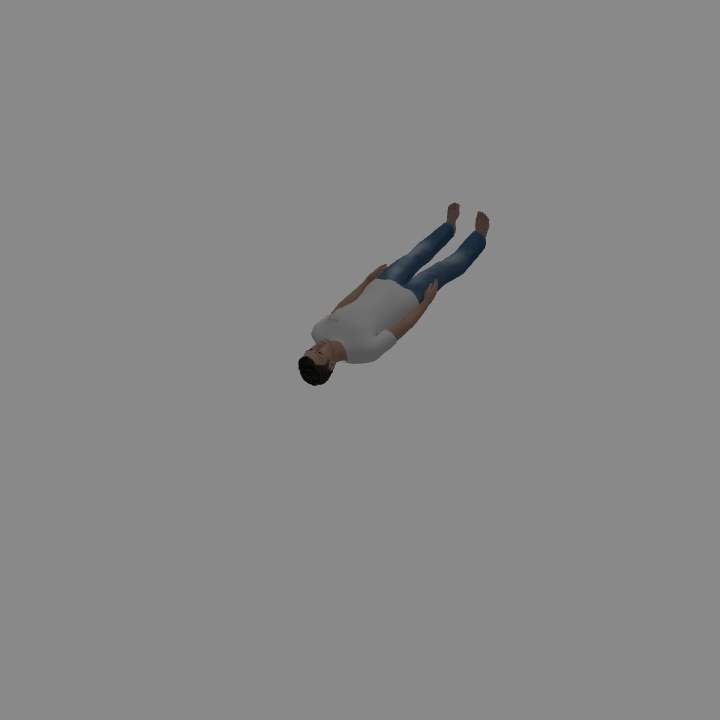victim: (304, 207, 490, 382)
